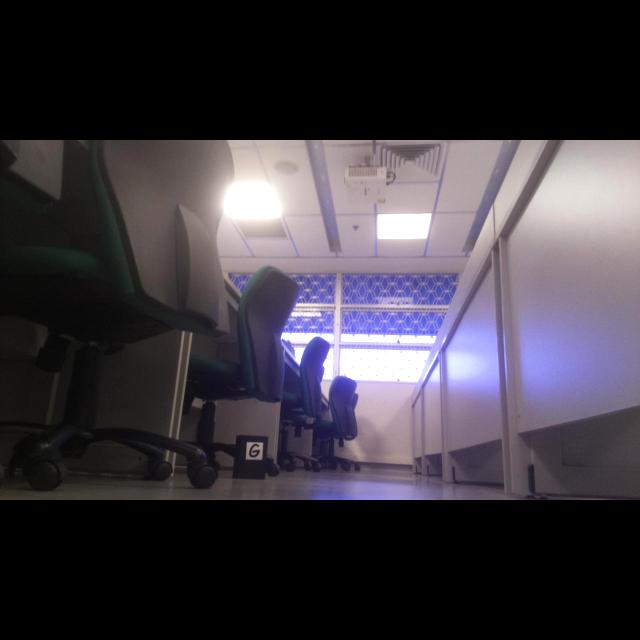G: (249, 444, 260, 457)
